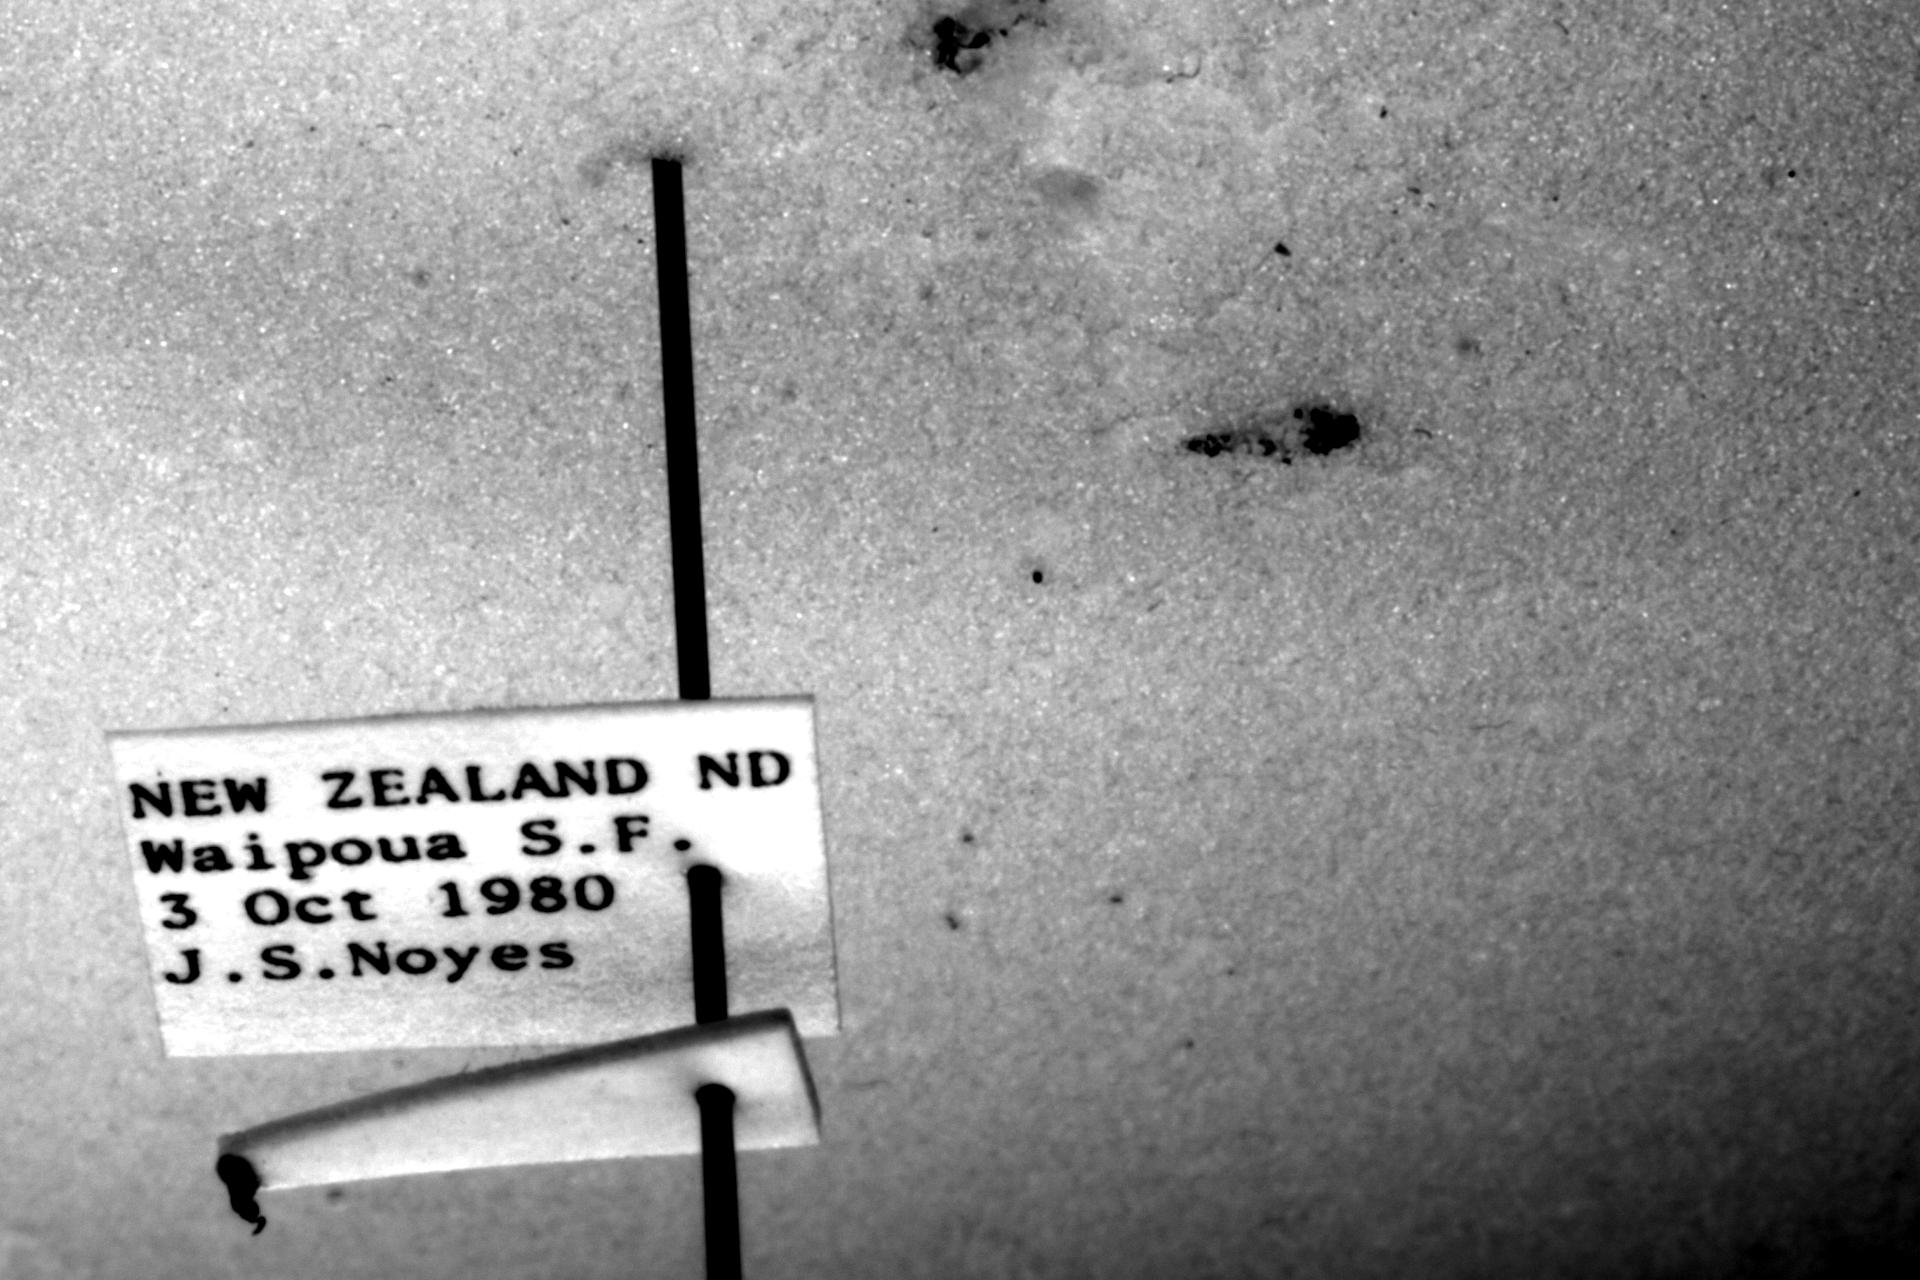typed_label: (109, 697, 840, 1057)
